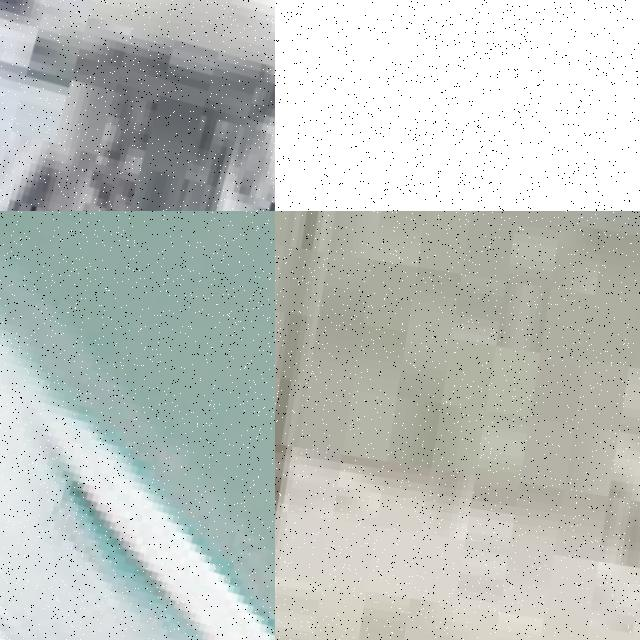0: (0, 0, 275, 211)
drone: (0, 211, 275, 640)
